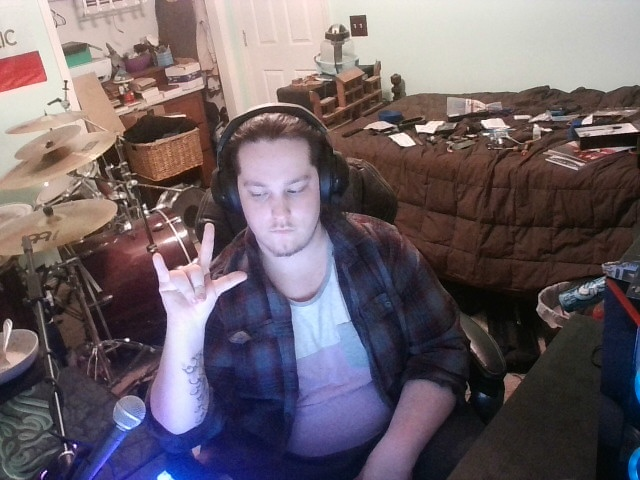i_love_you: (128, 220, 256, 324)
